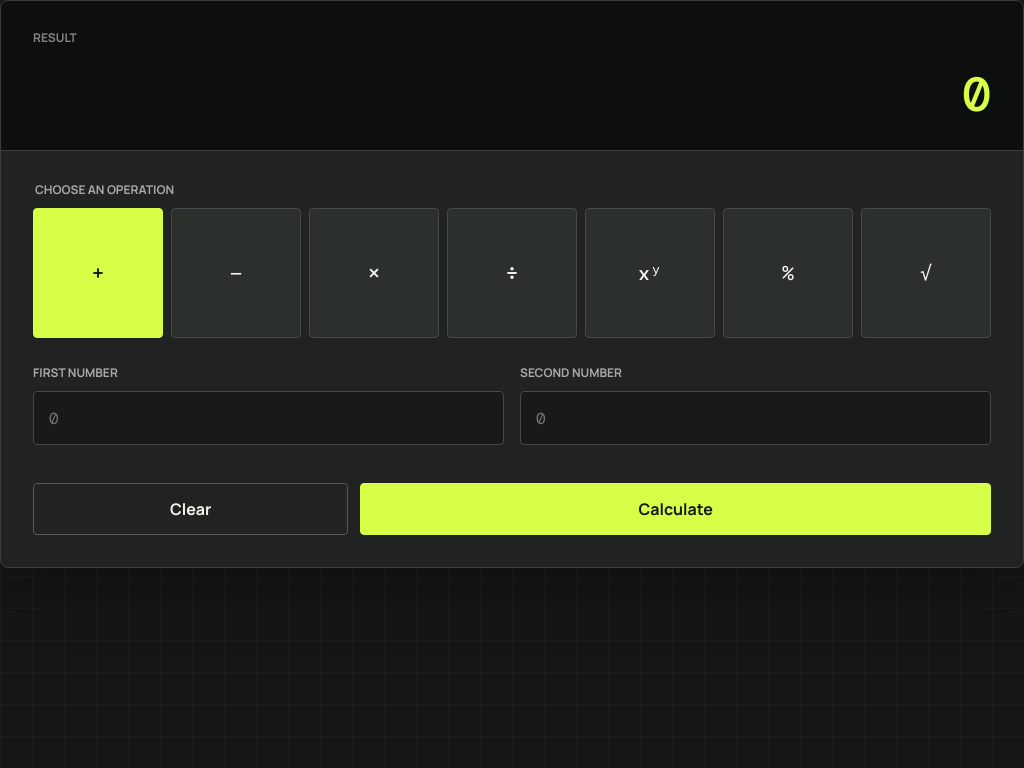
Test: Calculator › sends a calculation and displays the result
Type "35" into the number field labelled "First number".
click(268, 418); type("35")  # box [33,391,504,445]
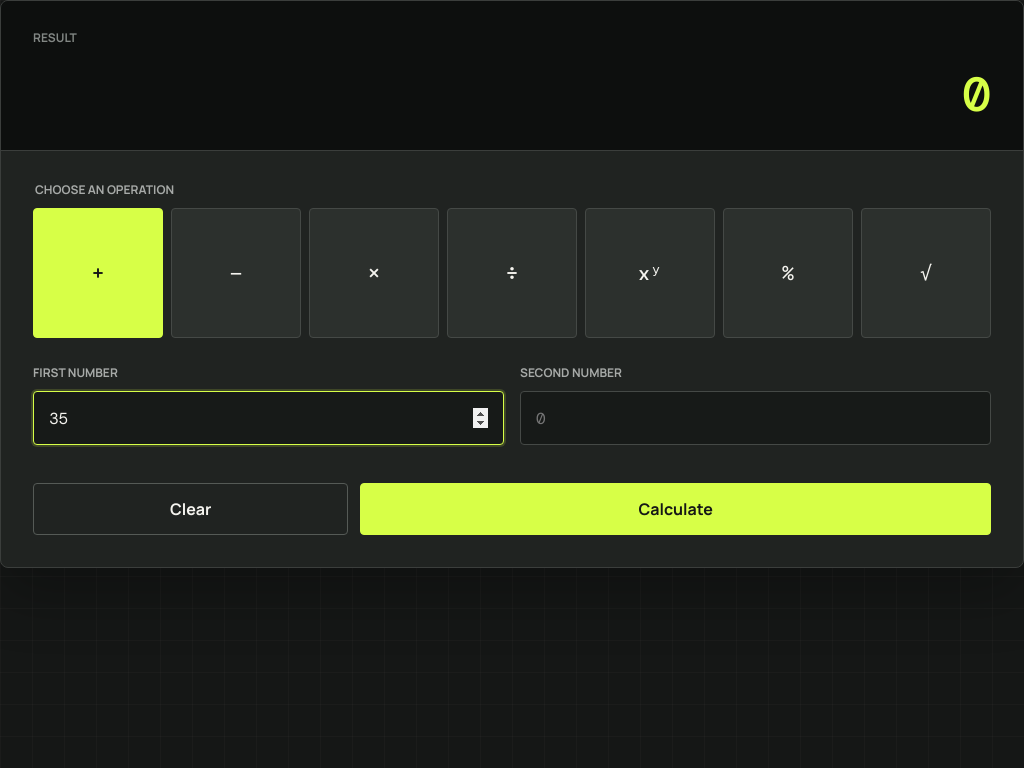
Type "7" into the number field labelled "Second number".
click(756, 418); type("7")  # box [520,391,991,445]
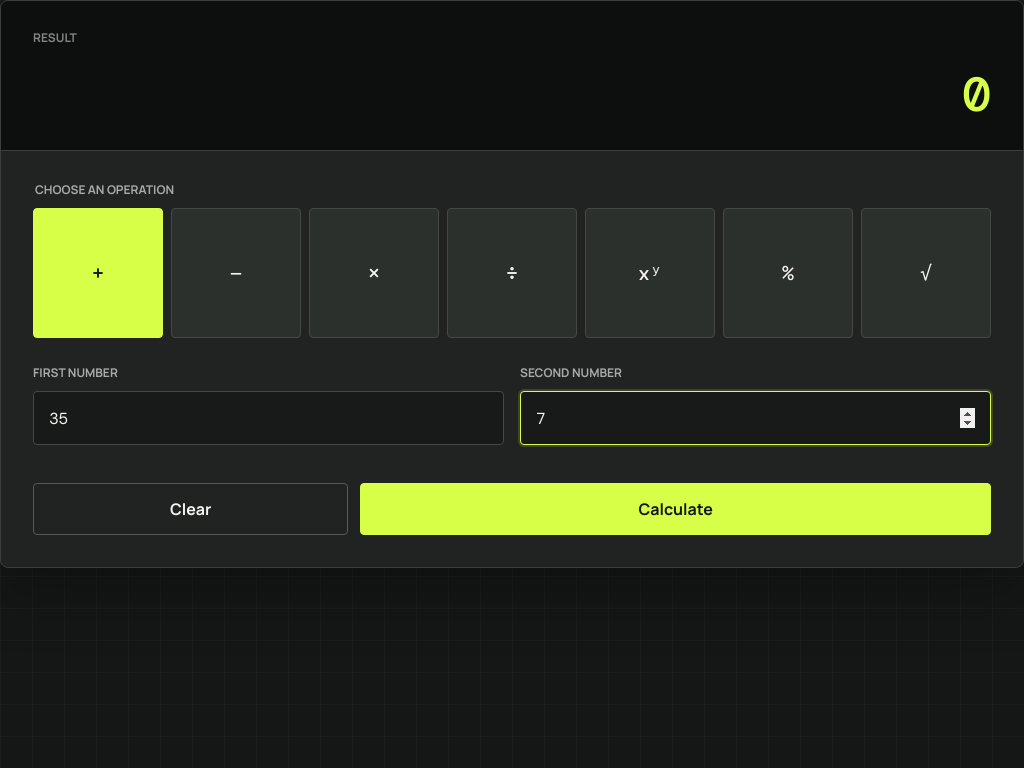
Click the button "Calculate".
click(676, 509)  # box [360,483,991,535]
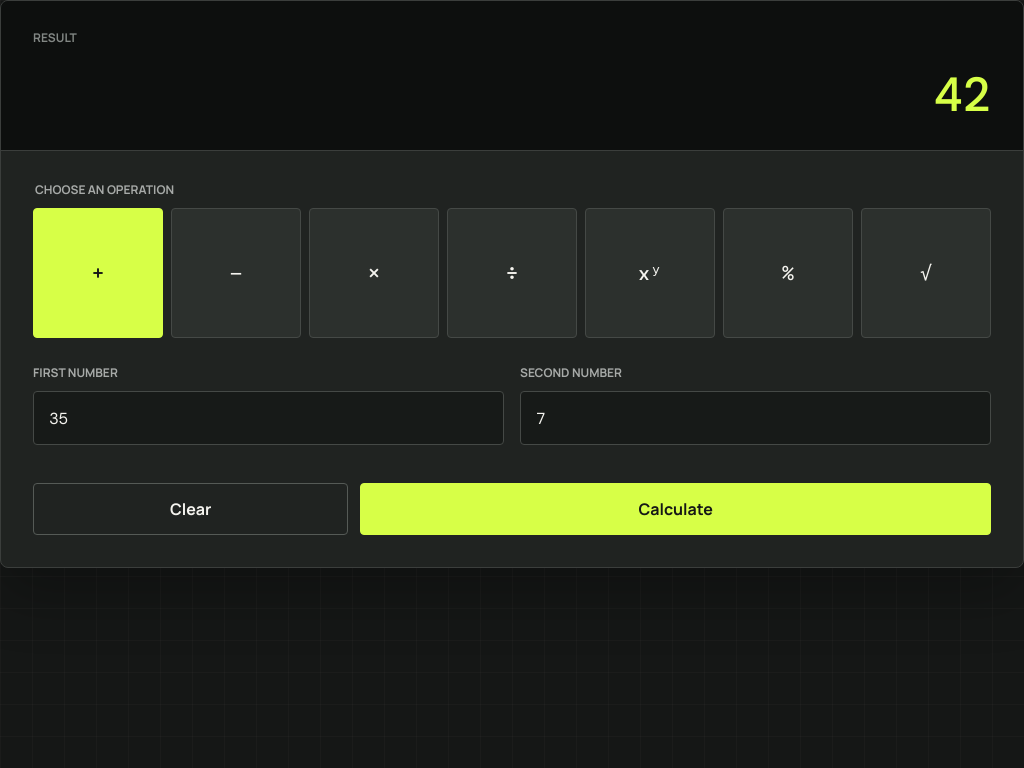
expect the text "42" is shown: met, box [933,69,991,122]
